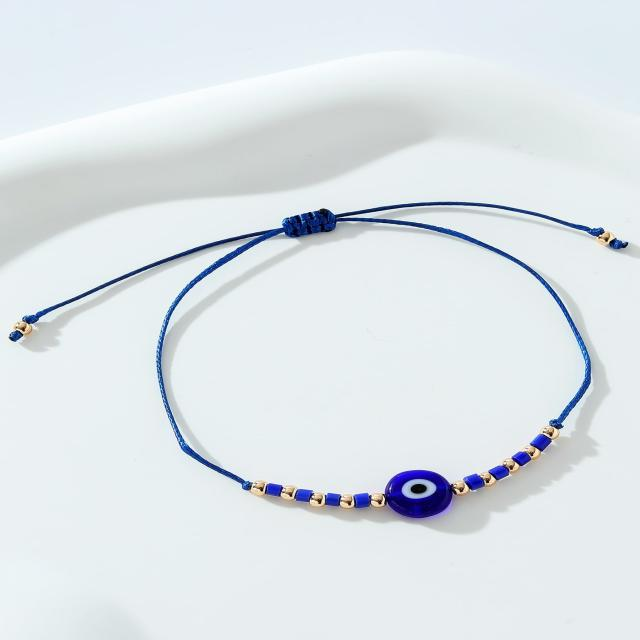bracelet: (0, 107, 640, 559)
